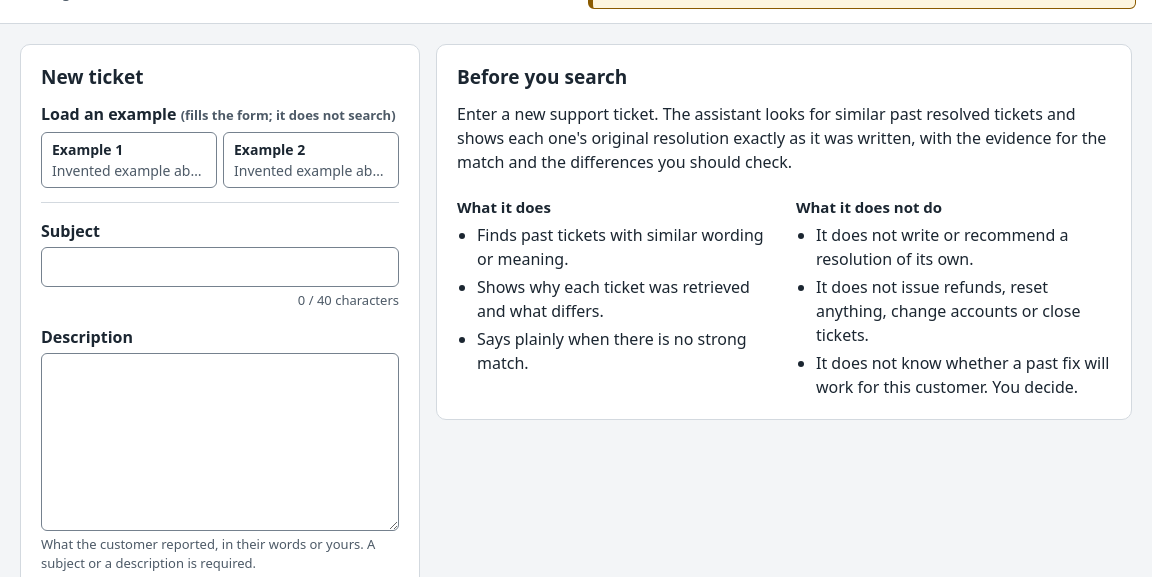
result card › shows recorded investigation fields only when present, in the card and the full record
The width and height of the screenshot is (1152, 577).
Expected: the heading "Before you search" is shown, top-left (457, 64), bottom-right (627, 90)
Type "Alpha problem" into the field labelled "Subject".
click(220, 267); type("Alpha problem")  # box top-left (41, 247), bottom-right (399, 287)
(page scrolled)
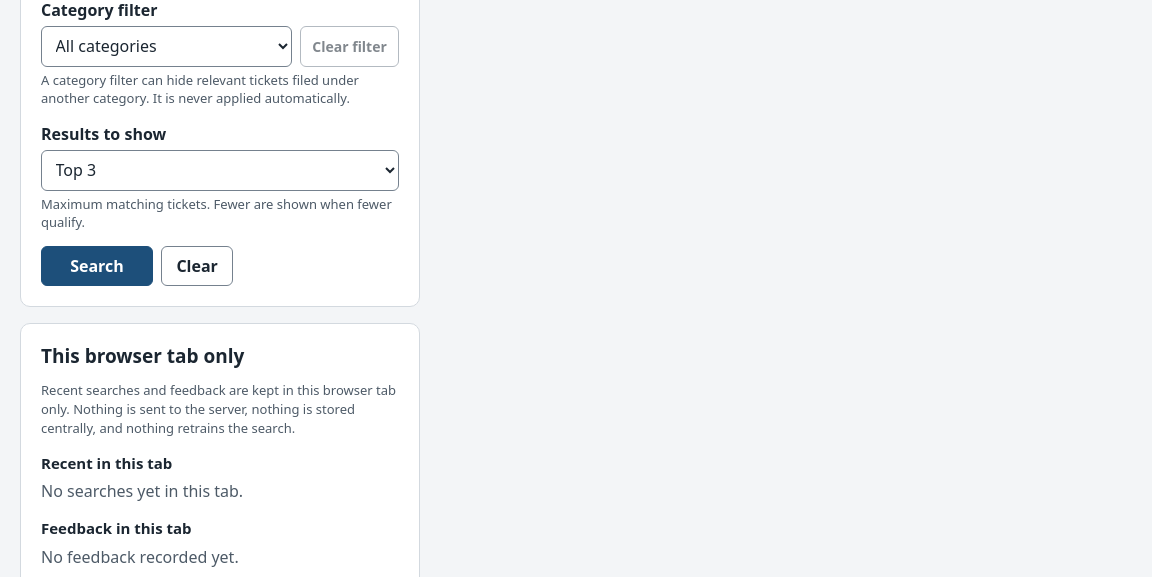
Click the button "Search".
click(97, 266)  # box top-left (41, 246), bottom-right (153, 286)
(page scrolled)
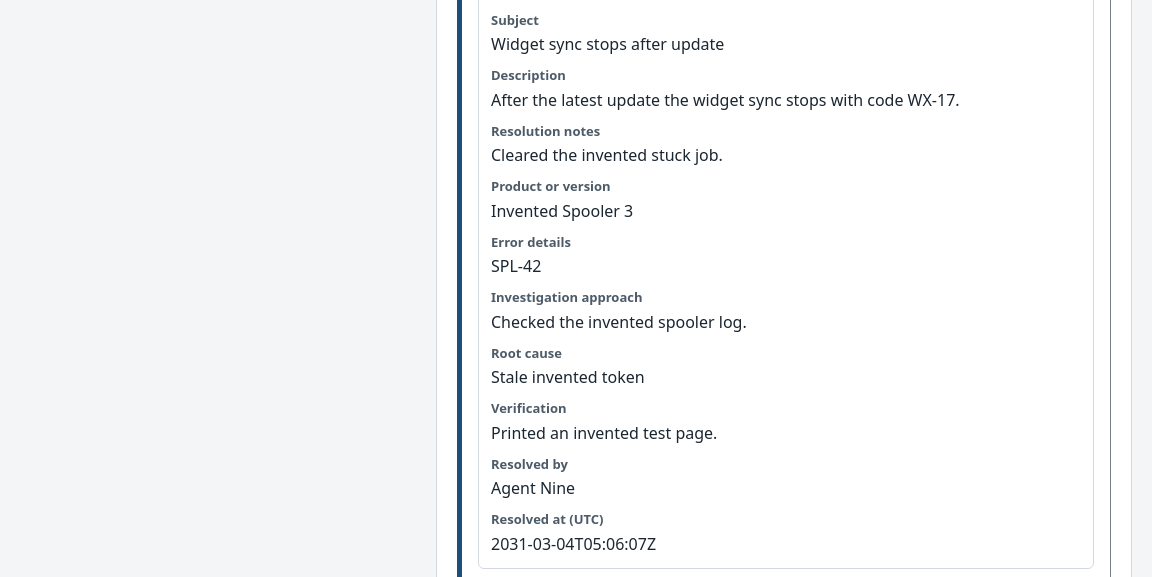
Expected: the text "Invented Spooler 3" is shown, top-left (491, 200), bottom-right (633, 222)
Expected: the text "SPL-42" is shown, top-left (491, 255), bottom-right (541, 277)
Expected: the text "Checked the invented spooler log." is shown 2 times
